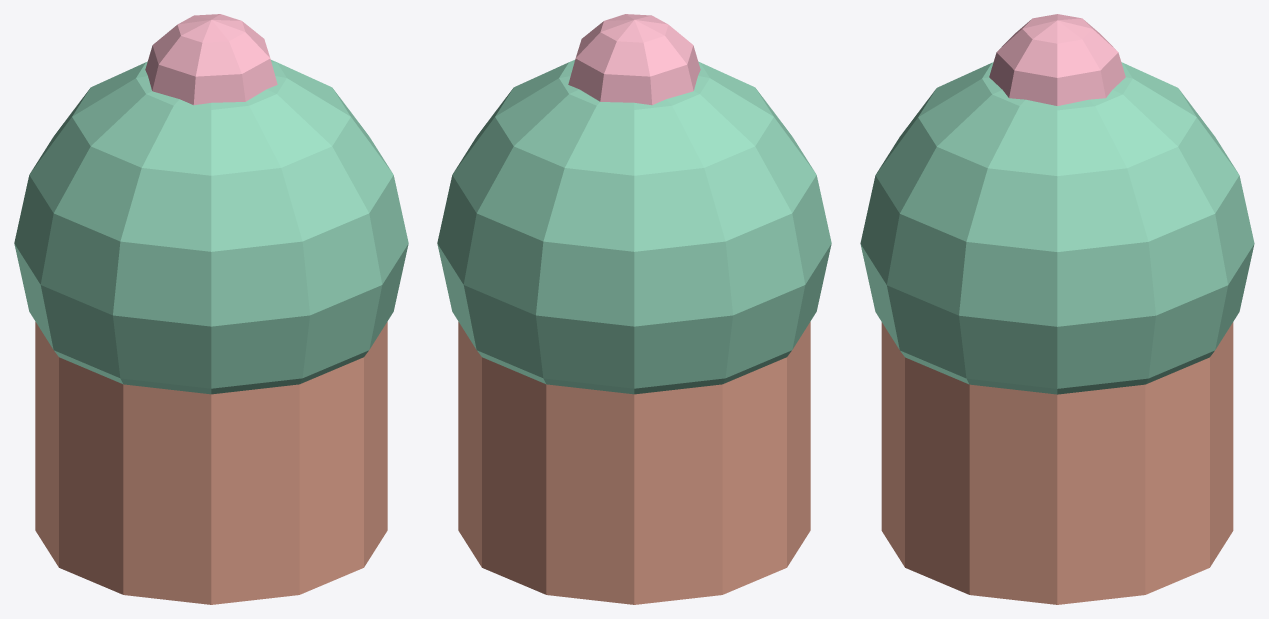
Rendered from prop_flower_pot.glb.
3 renders of one model, left to right at view 1: azimuth 30°, elevation 25°; view 2: azimuth 150°, elevation 25°; view 3: azimuth 270°, elevation 25°, orthographic.
Visible parts, largest first — view 1: prop_flower_pot; view 2: prop_flower_pot; view 3: prop_flower_pot.
Part boxes in pixels (x1=…): prop_flower_pot: x1=14, y1=14, x2=408, y2=604; prop_flower_pot: x1=437, y1=14, x2=831, y2=604; prop_flower_pot: x1=860, y1=14, x2=1254, y2=604.
Size of the model in its own units: 0.56 by 0.8 by 0.56.
